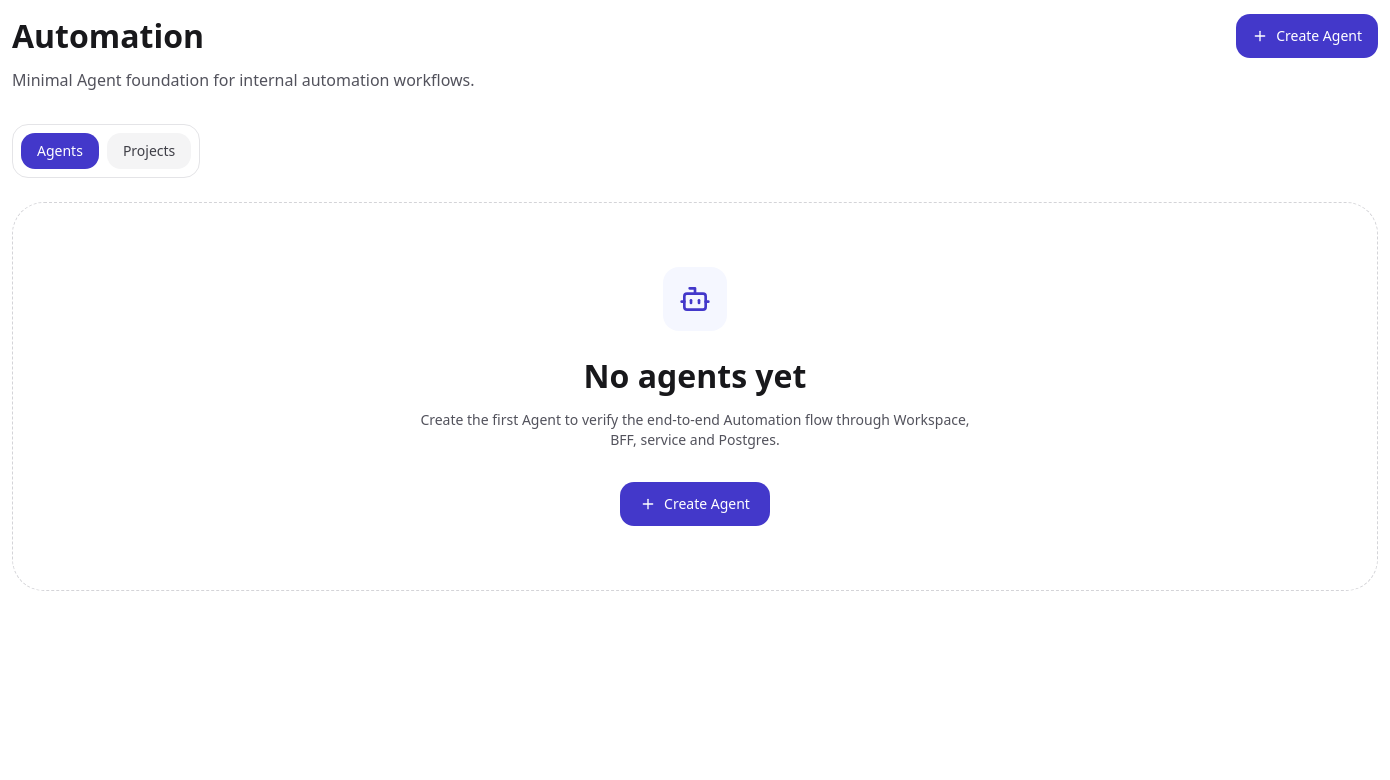
it: AutomationPage › shows fallback description for empty and whitespace project descriptions
This screenshot has width=1390, height=780.
Check: the heading "No agents yet" is shown, box [584, 354, 806, 397]
Click the button "Projects". click: (149, 151)
box: [107, 133, 191, 169]
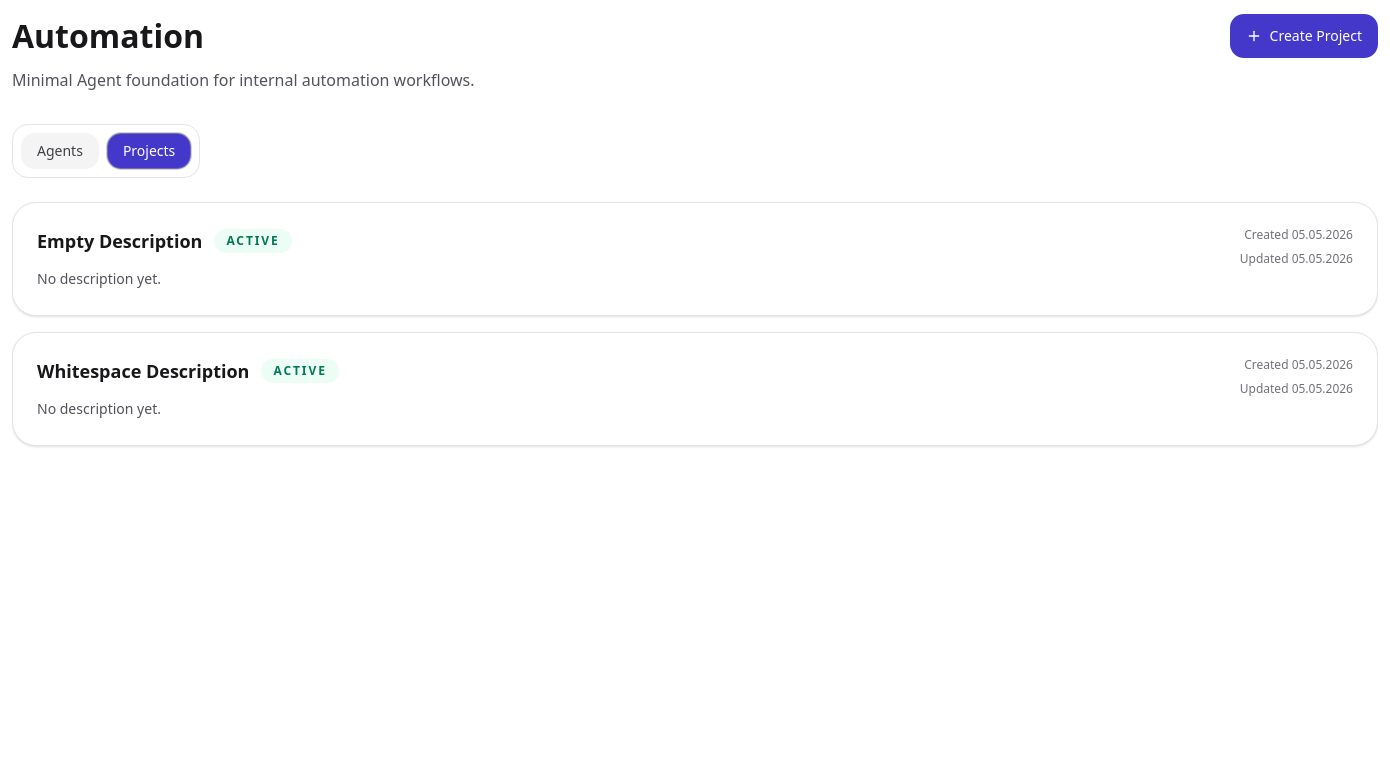
Check: the text "No description yet." is shown 2 times, box [37, 269, 161, 288]; [37, 399, 161, 418]
